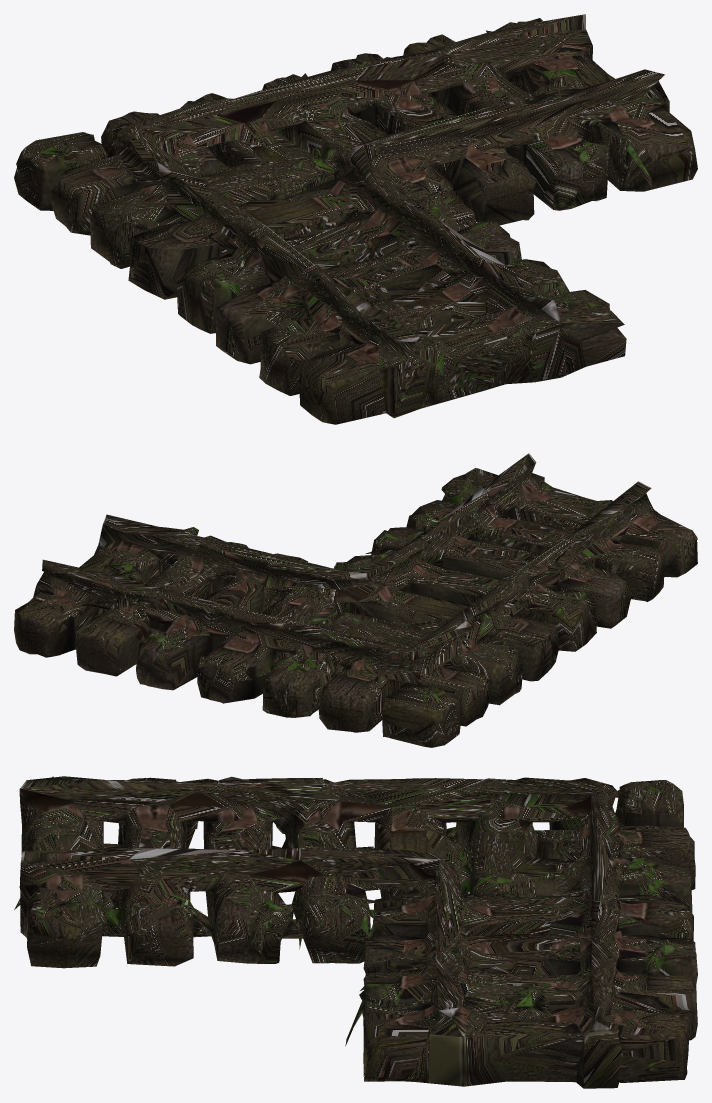
File: overgrown_rail_track_01.glb
3 renders of one model, top to bottom at view 1: azimuth 30°, elevation 25°; view 2: azimuth 150°, elevation 25°; view 3: azimuth 270°, elevation 25°, orthographic. The views are drawn at different scales.
Visible parts, largest first — view 1: tripo_node_3fda16d0-8107-448a-a8e5-a7d876d4f52e; view 2: tripo_node_3fda16d0-8107-448a-a8e5-a7d876d4f52e; view 3: tripo_node_3fda16d0-8107-448a-a8e5-a7d876d4f52e.
Boxes of the visible parts, box(x1,y1,x2,y2) form: tripo_node_3fda16d0-8107-448a-a8e5-a7d876d4f52e: box(14, 14, 697, 424); tripo_node_3fda16d0-8107-448a-a8e5-a7d876d4f52e: box(14, 453, 697, 747); tripo_node_3fda16d0-8107-448a-a8e5-a7d876d4f52e: box(14, 776, 697, 1088).
Size of the model in its own units: 0.891 by 0.1296 by 0.9682.
1 material, 1 textured.
